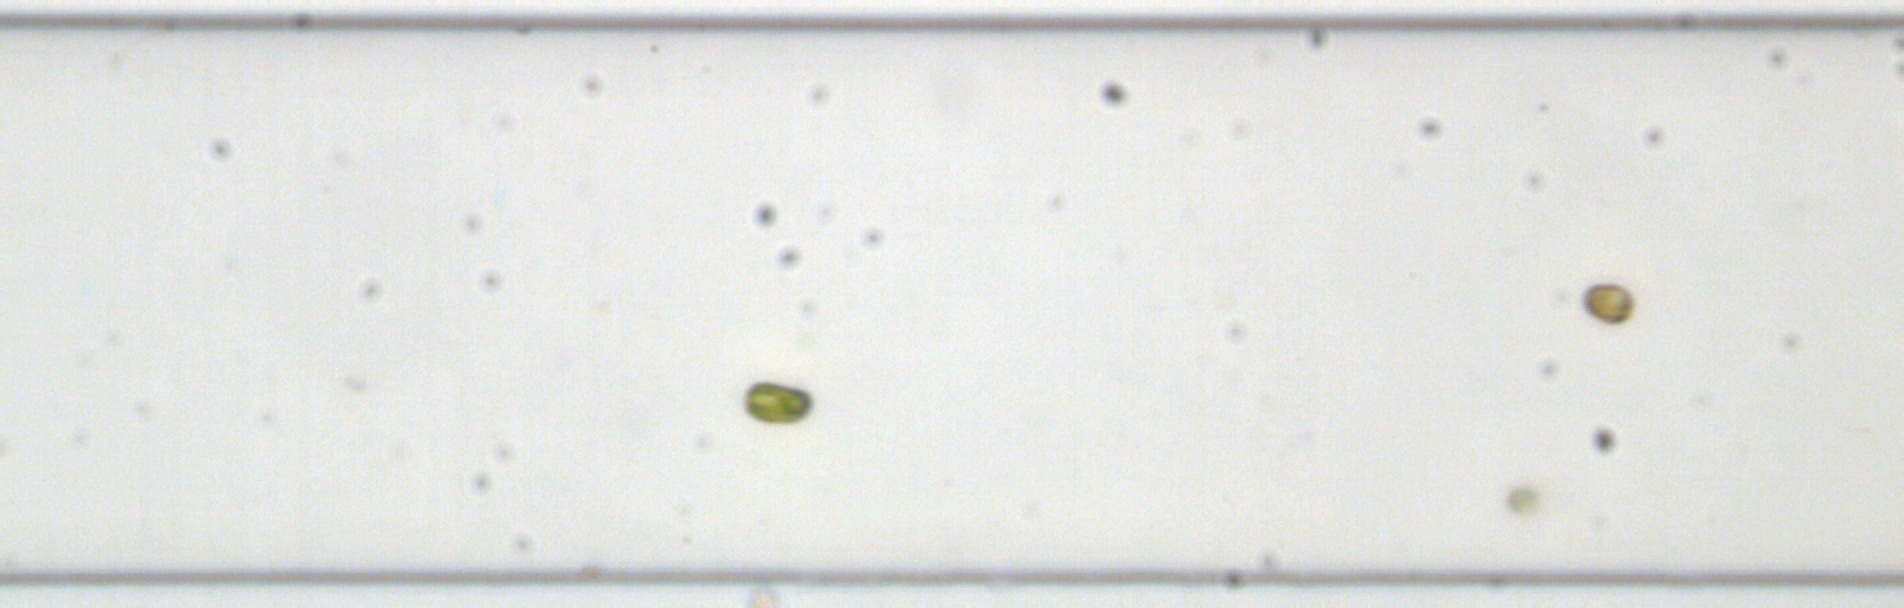Chlorella: (1504, 484, 1537, 515)
Effrenium: (1581, 279, 1634, 328)
Platymonas: (739, 376, 816, 431)
